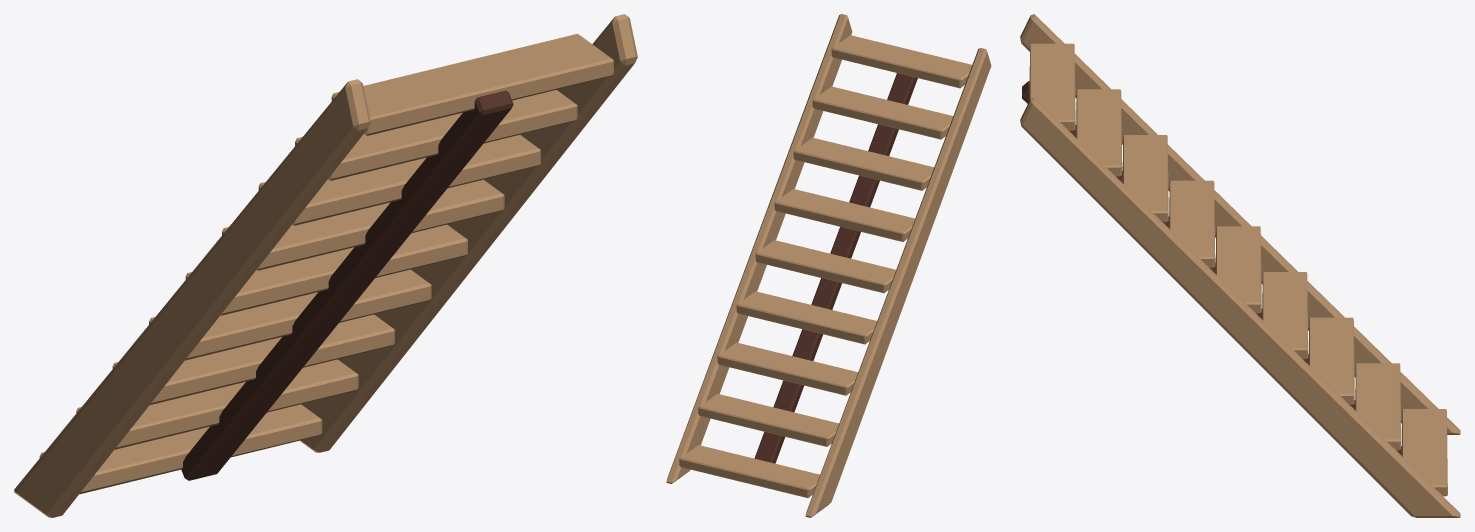
Rendered from stairs-a.glb.
3 views of the same model, side by side, from view 1: azimuth 30°, elevation 25°; view 2: azimuth 150°, elevation 25°; view 3: azimuth 270°, elevation 25° (orthographic). The views are drawn at different scales.
Parts seen in each view (by area): view 1: Stairs A (×2); view 2: Stairs A (×2); view 3: Stairs A.
Boxes of the visible parts, x1,y1,x2,y2 form: Stairs A (×2): (14,14,637,517); Stairs A (×2): (666,14,991,517); Stairs A: (1020,14,1460,517).
Bounding box in the file's own units: 1 × 2.2 × 2.1.
